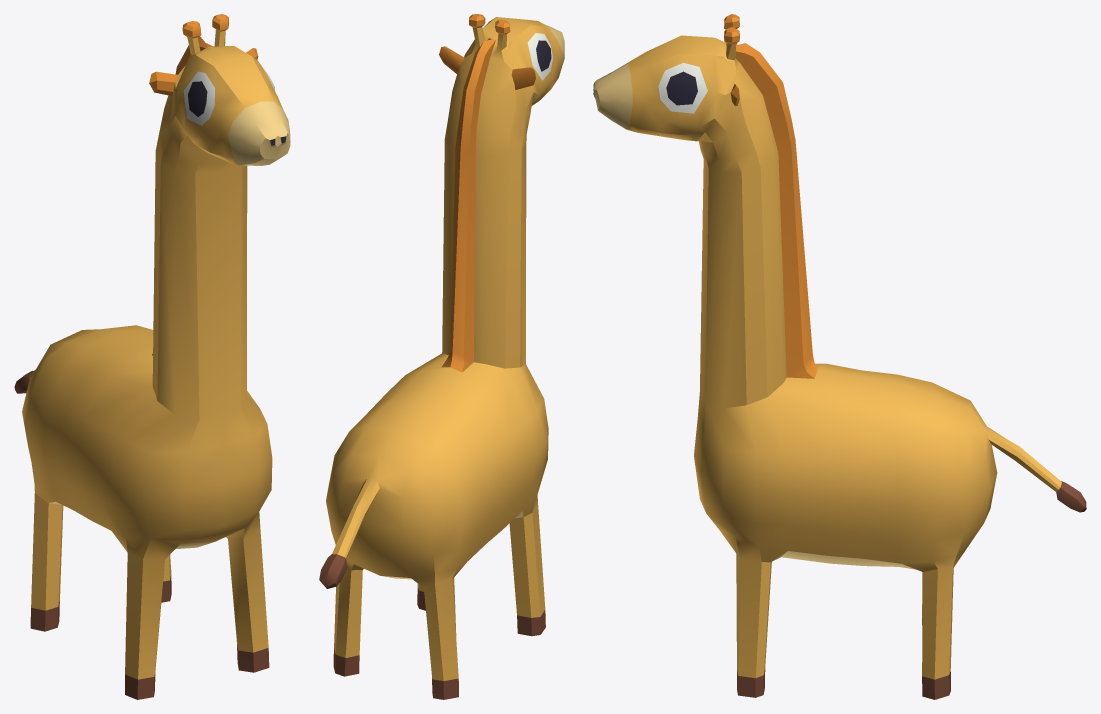
File: giraffe.glb
The picture shows the model from 3 angles, left to right: view 1: azimuth 30°, elevation 25°; view 2: azimuth 150°, elevation 25°; view 3: azimuth 270°, elevation 25°; orthographic projection. The views are drawn at different scales.
Visible parts, largest first — view 1: Giraffe; view 2: Giraffe; view 3: Giraffe.
Boxes of the visible parts, x1,y1,x2,y2 form: Giraffe: (14, 14, 290, 699); Giraffe: (319, 14, 564, 699); Giraffe: (593, 14, 1086, 699).
Bounding box in the file's own units: 0.6885 × 2.75 × 1.91.
